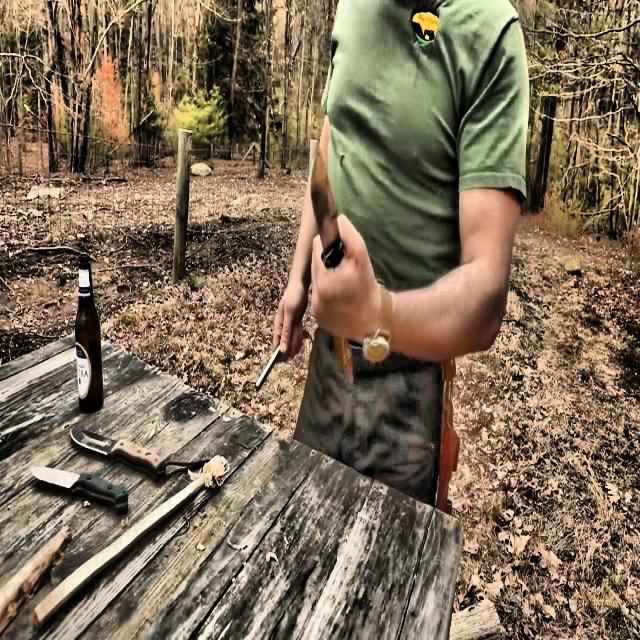knife: (69, 430, 168, 480), (30, 467, 129, 515), (310, 145, 344, 268)
